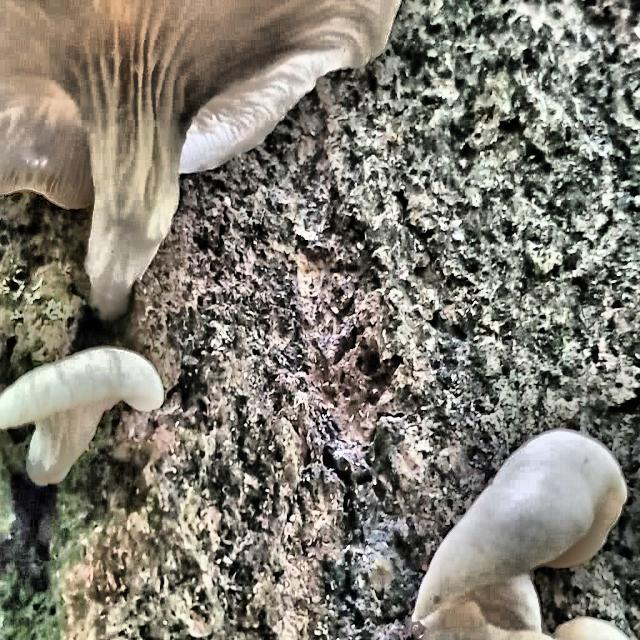Healthy: (0, 0, 468, 295), (347, 455, 640, 640)
